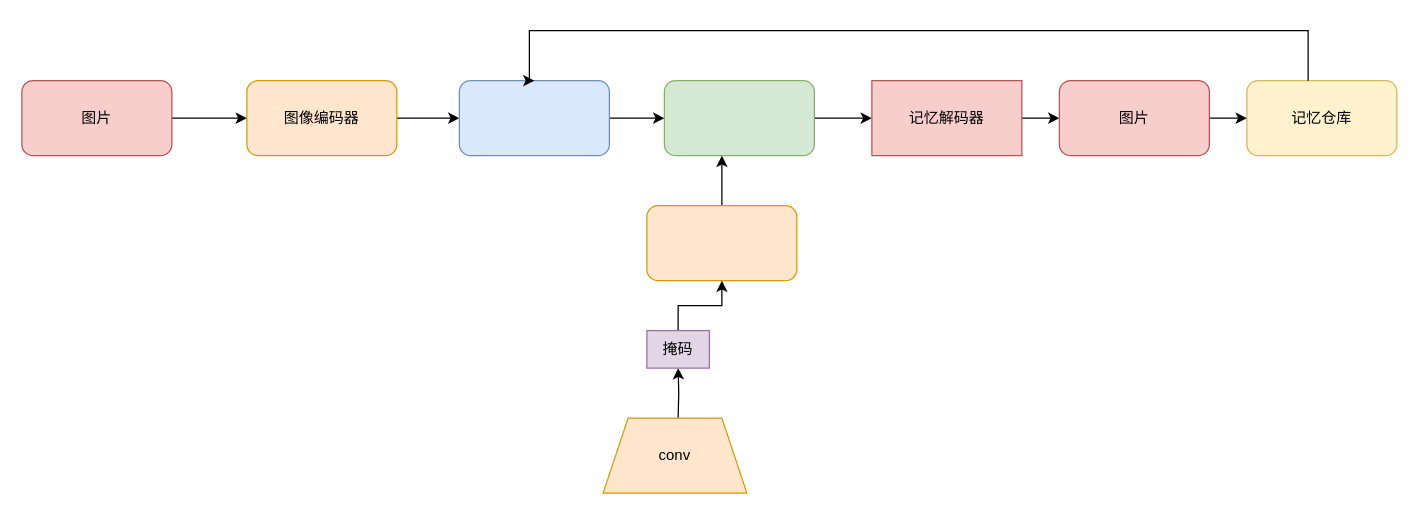
Some shapes in this 1419 by 515 pixel diagram are drawn without their labels. Here are the shapes that lost their labels. From the top down, the centre of each, then its label:
(x=533, y=117): 记忆注意力
(x=738, y=117): 掩码解码器
(x=721, y=242): 提示器编码器
